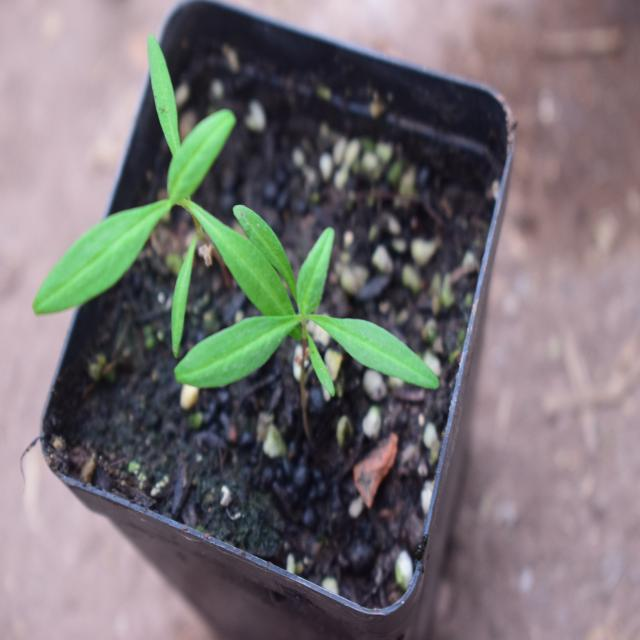white_smart_weed: (46, 89, 270, 301), (199, 208, 412, 416)
